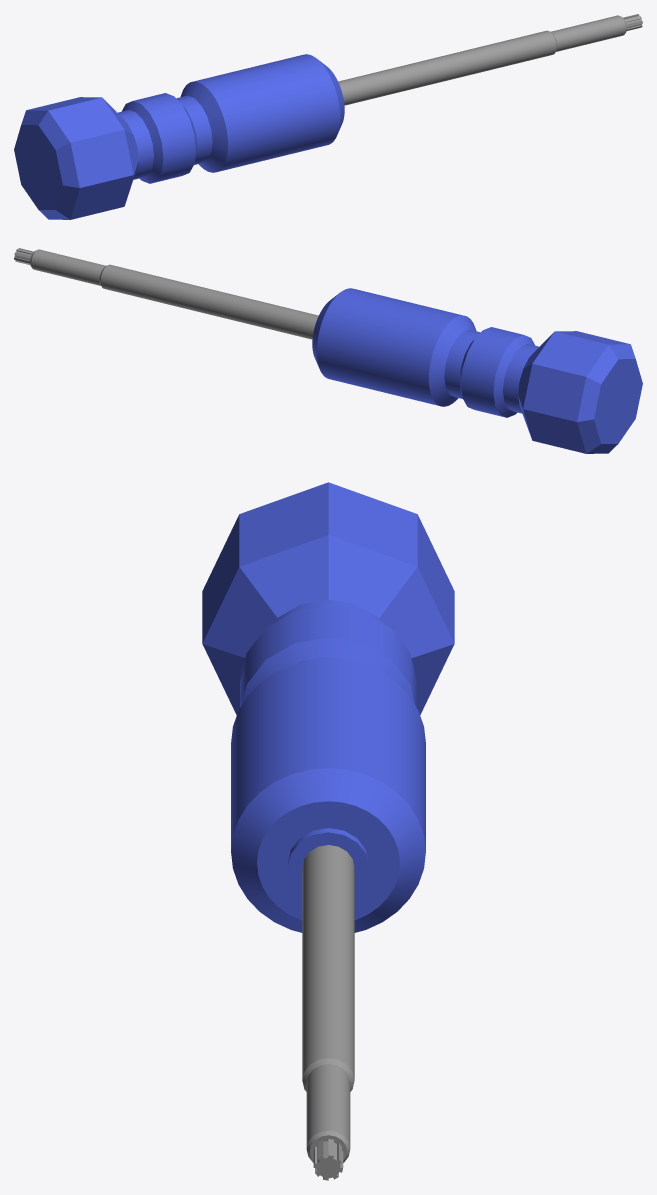
File: ToolDriver.fbx
3 renders of one model, top to bottom at view 1: azimuth 30°, elevation 25°; view 2: azimuth 150°, elevation 25°; view 3: azimuth 270°, elevation 25°, orthographic. The views are drawn at different scales.
Visible parts, largest first — view 1: ToolDriver; view 2: ToolDriver; view 3: ToolDriver.
Boxes of the visible parts, x1,y1,x2,y2 form: ToolDriver: (14, 14, 642, 219); ToolDriver: (14, 248, 642, 453); ToolDriver: (202, 482, 454, 1180).
Bounding box in the file's own units: 4.59 × 0.7953 × 0.8344.
